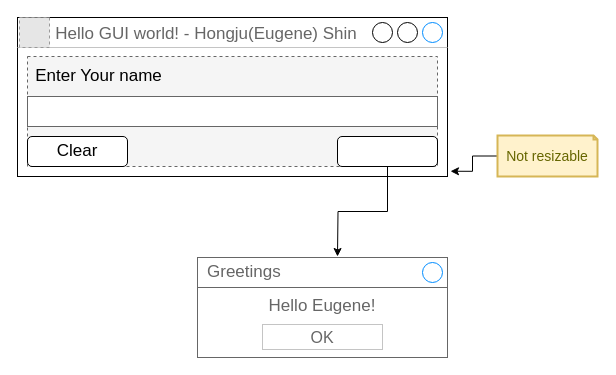
The diagram is 616 pixels wide and 375 high, and some of its shapes have lost their labels. Grey dashed boxes stand in for pictures. Here are the shapes that lost their labels. From the top down, the centre of each, then its label:
the point at 232,111: Eugene
the point at 387,151: Greet
